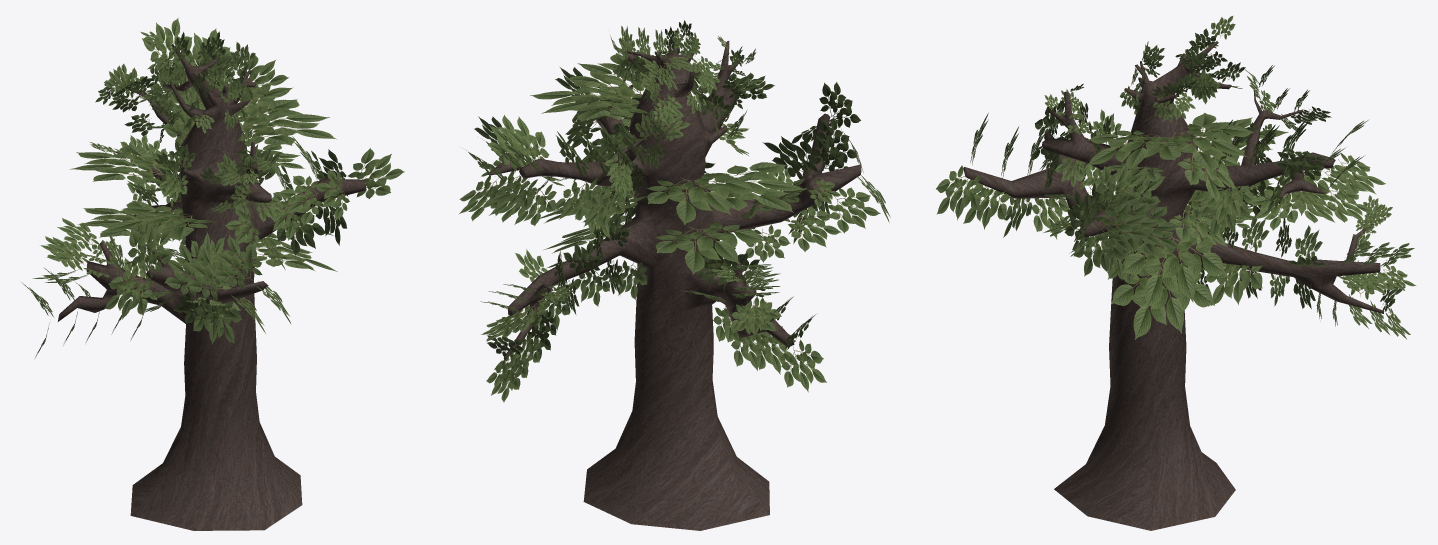
The model's file is Arbol_2.fbx.
The picture shows the model from 3 angles, left to right: view 1: azimuth 30°, elevation 25°; view 2: azimuth 150°, elevation 25°; view 3: azimuth 270°, elevation 25°; orthographic projection. The views are drawn at different scales.
Parts seen in each view (by area): view 1: Arbol_02; view 2: Arbol_02; view 3: Arbol_02.
Part boxes in pixels (x1,y1,x2,y2): Arbol_02: [21, 18, 404, 530]; Arbol_02: [459, 20, 890, 530]; Arbol_02: [936, 15, 1416, 530].
Bounding box in the file's own units: 1836 × 2444 × 2401.
